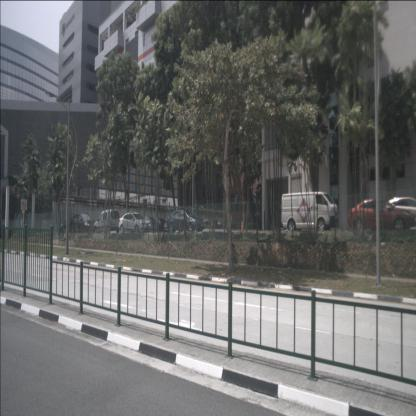movable_object-trafficcone: (240, 219, 244, 232)
vehicle-car: (347, 196, 415, 232), (280, 192, 340, 232), (384, 195, 416, 229), (168, 208, 205, 234), (118, 212, 152, 234), (93, 208, 120, 234), (69, 211, 96, 233), (152, 218, 166, 231)
